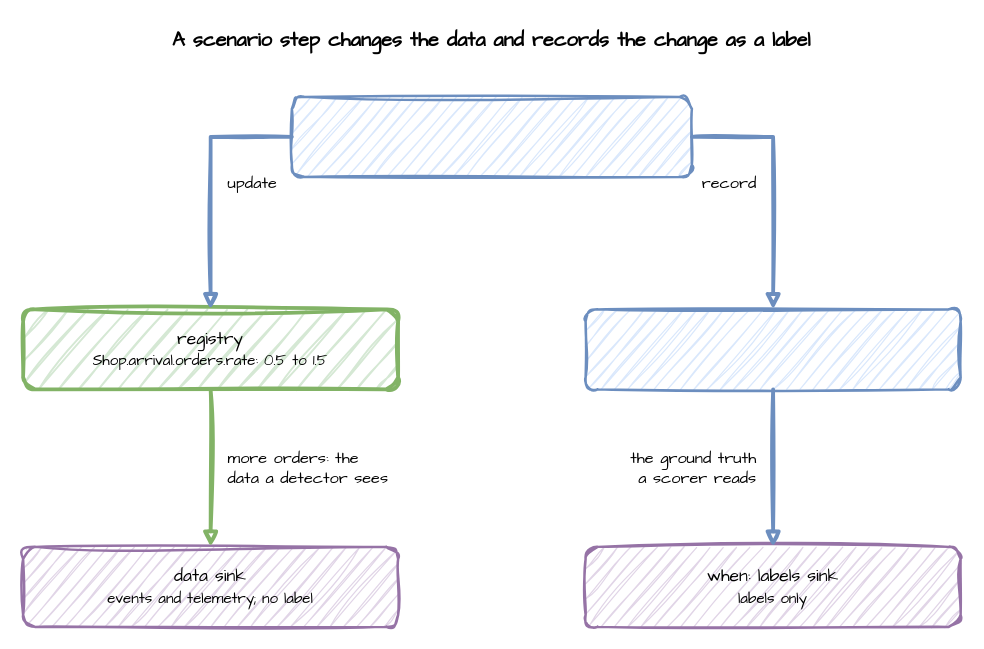
This 984x649 diagram has some shape labels left out. The shapes that lost their labels are listed below. From the top down, each one's box as (x1, y1, x2, y2) in pixels, then its label:
(290, 95, 692, 178): scenario step at 30 s path, value and record
(584, 308, 961, 390): publish_label path, old, new, label
